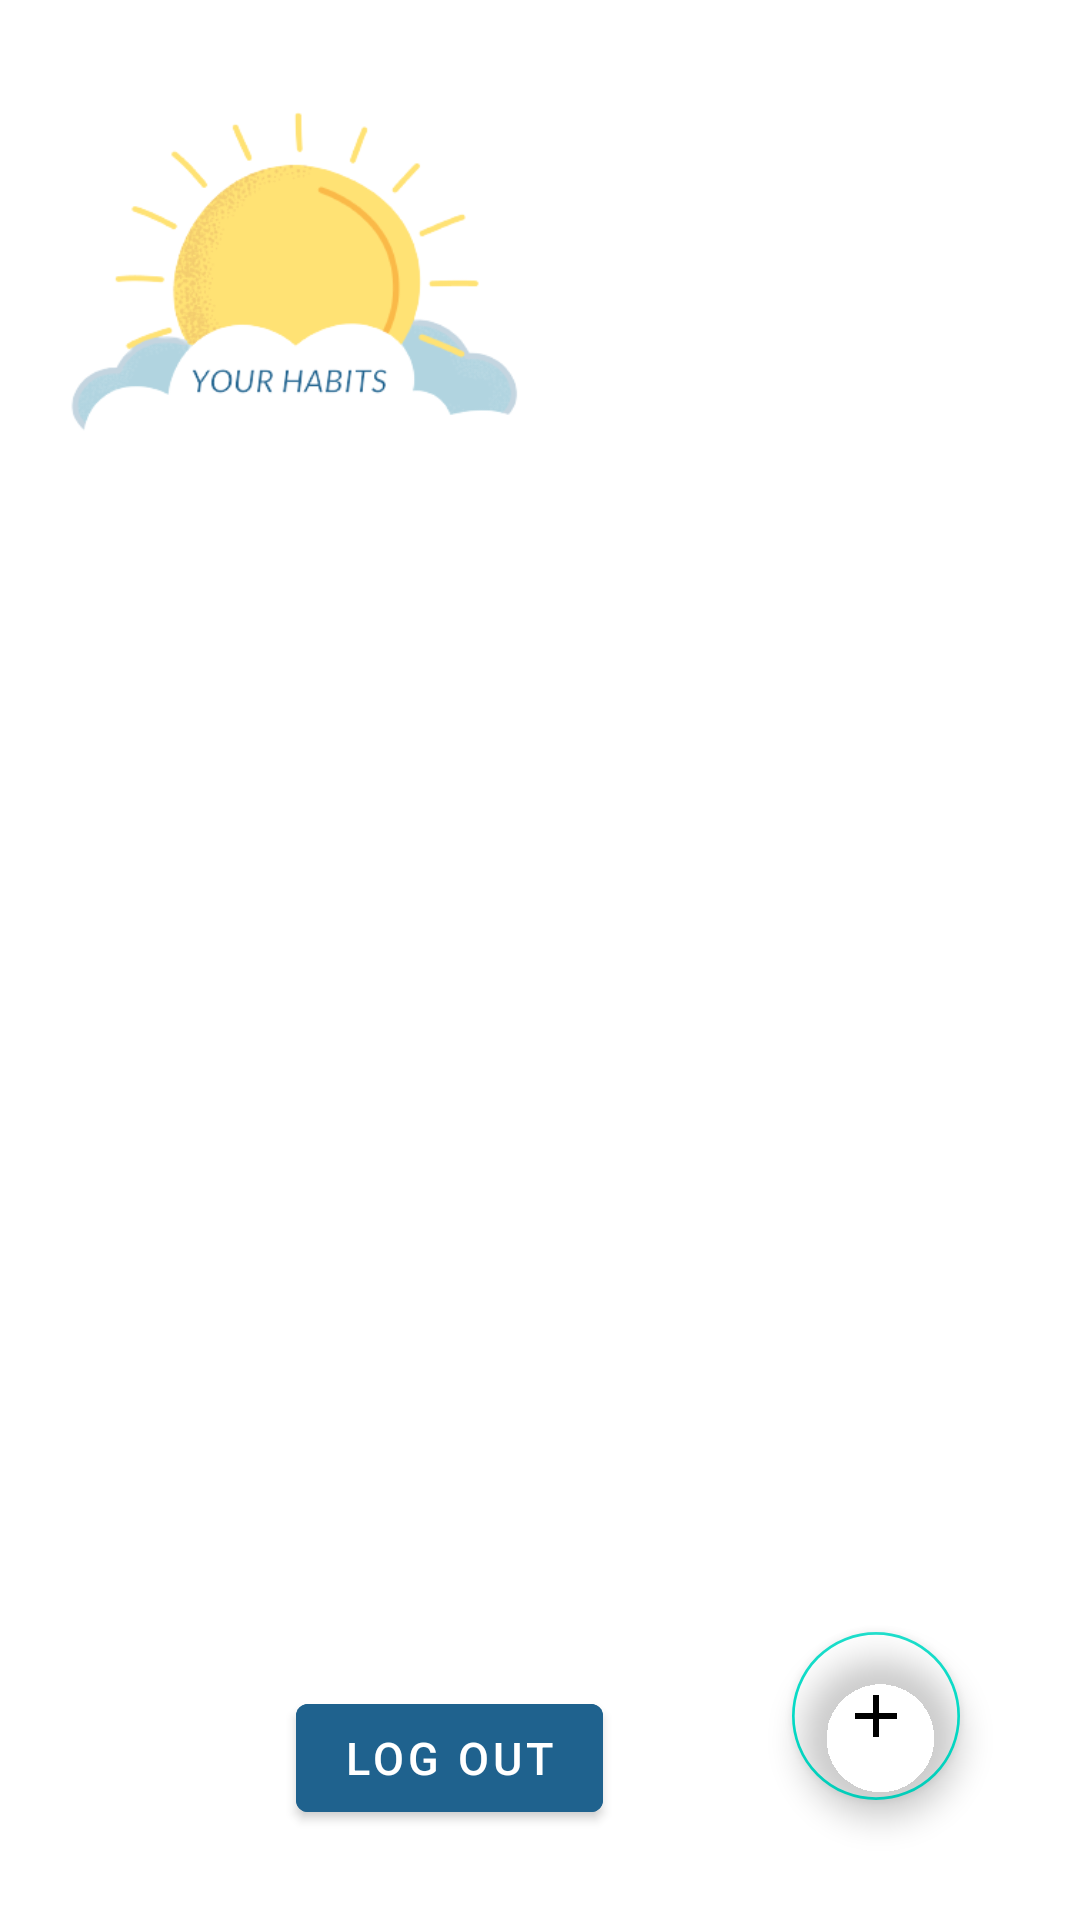

Locate icon controls on the screen. Image size 1080*1920, boxes as box=[x1, y1, x2, y2].
addnewhabit: box=[792, 1632, 960, 1800]
